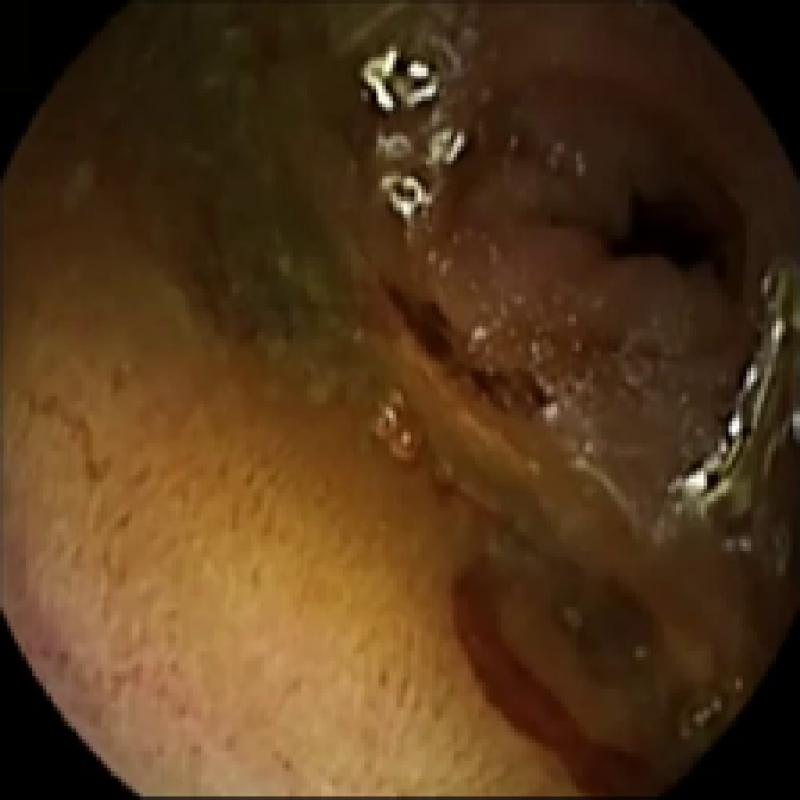bleeding: (453, 566, 662, 791), (387, 278, 554, 420)
